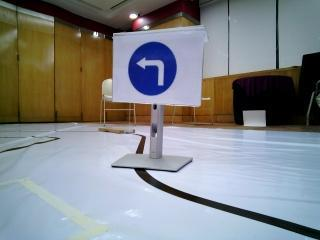left: (119, 36, 188, 101)
